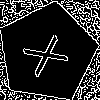X: (22, 28, 78, 79)
